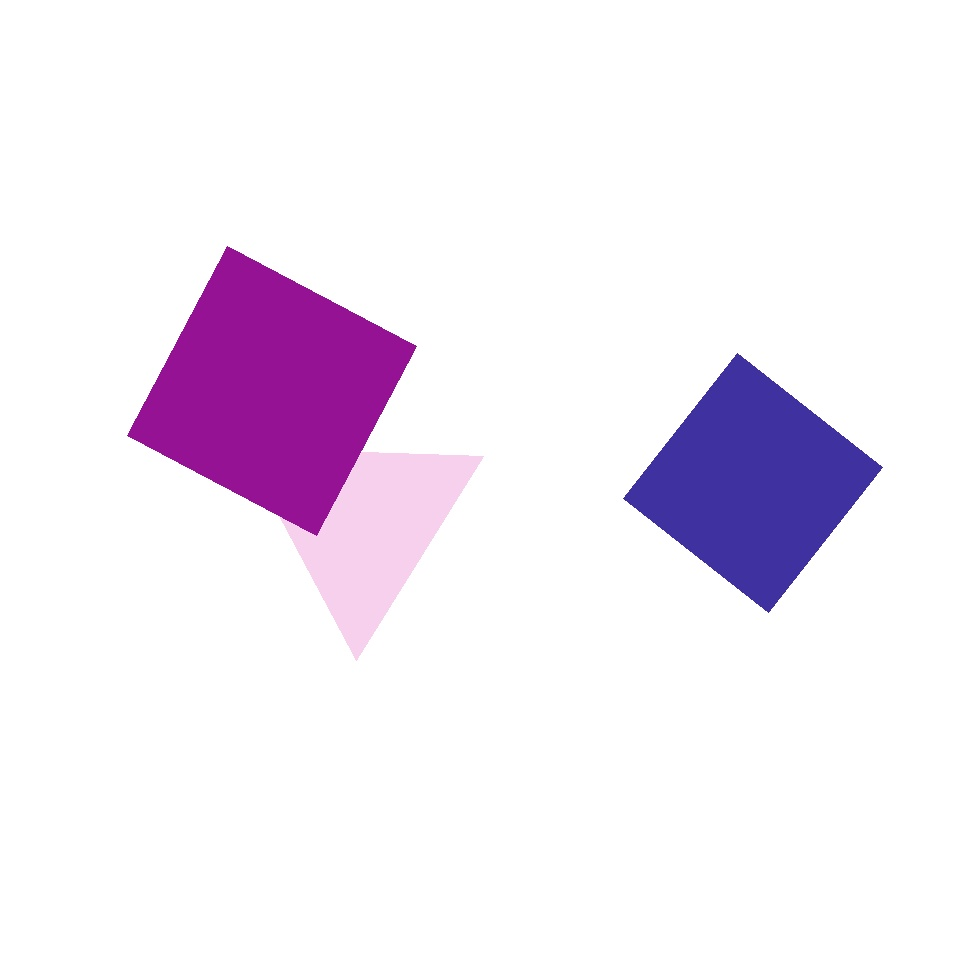circle: (241, 416, 481, 628), (63, 447, 295, 655), (763, 338, 931, 510)
square: (42, 42, 348, 348), (128, 246, 416, 536), (624, 354, 882, 612), (106, 400, 214, 508)
triangle: (20, 566, 264, 811), (692, 404, 804, 518)
